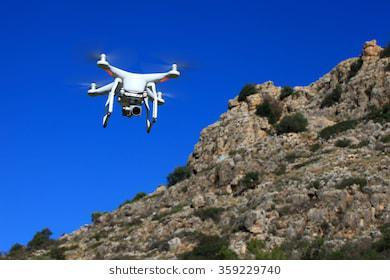drone: (84, 52, 181, 135)
